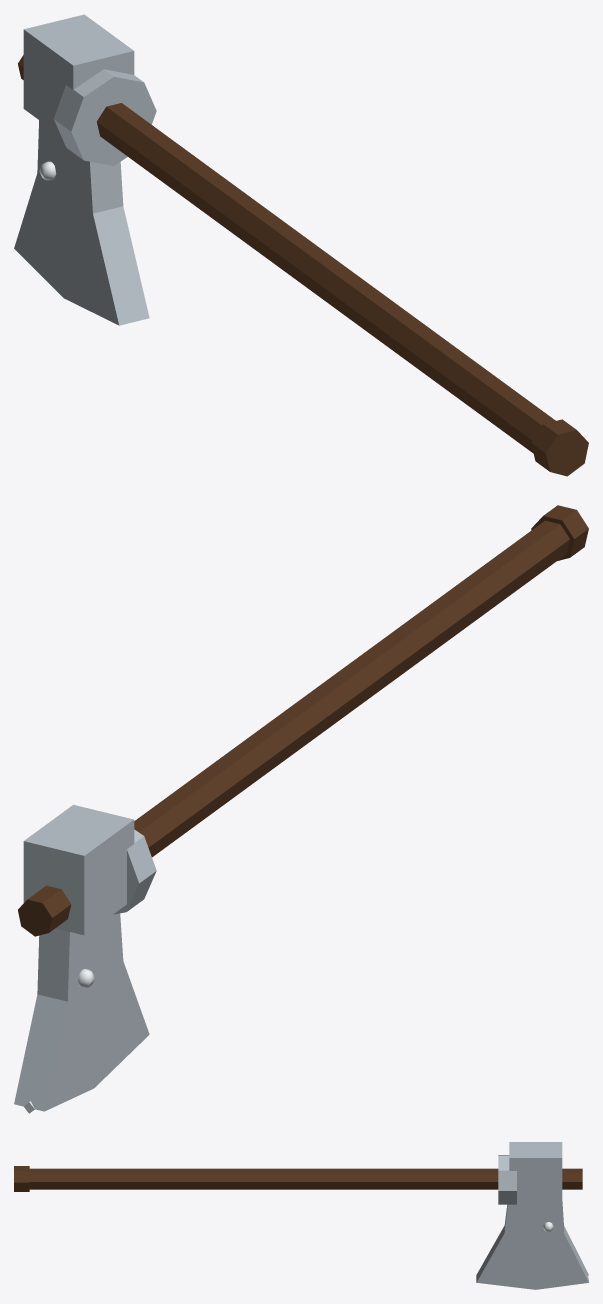
Rendered from Tool_Axe_Steel.fbx.
The picture shows the model from 3 angles, top to bottom: view 1: azimuth 30°, elevation 25°; view 2: azimuth 150°, elevation 25°; view 3: azimuth 270°, elevation 25°; orthographic projection. The views are drawn at different scales.
Parts seen in each view (by area): view 1: Tool_Axe_Steel; view 2: Tool_Axe_Steel; view 3: Tool_Axe_Steel.
Boxes of the visible parts, <box> form: Tool_Axe_Steel: <box>14,14,588,476</box>; Tool_Axe_Steel: <box>14,505,588,1113</box>; Tool_Axe_Steel: <box>14,1142,588,1289</box>.
Bounding box in the file's own units: 0.0338 × 0.096 × 0.368.
